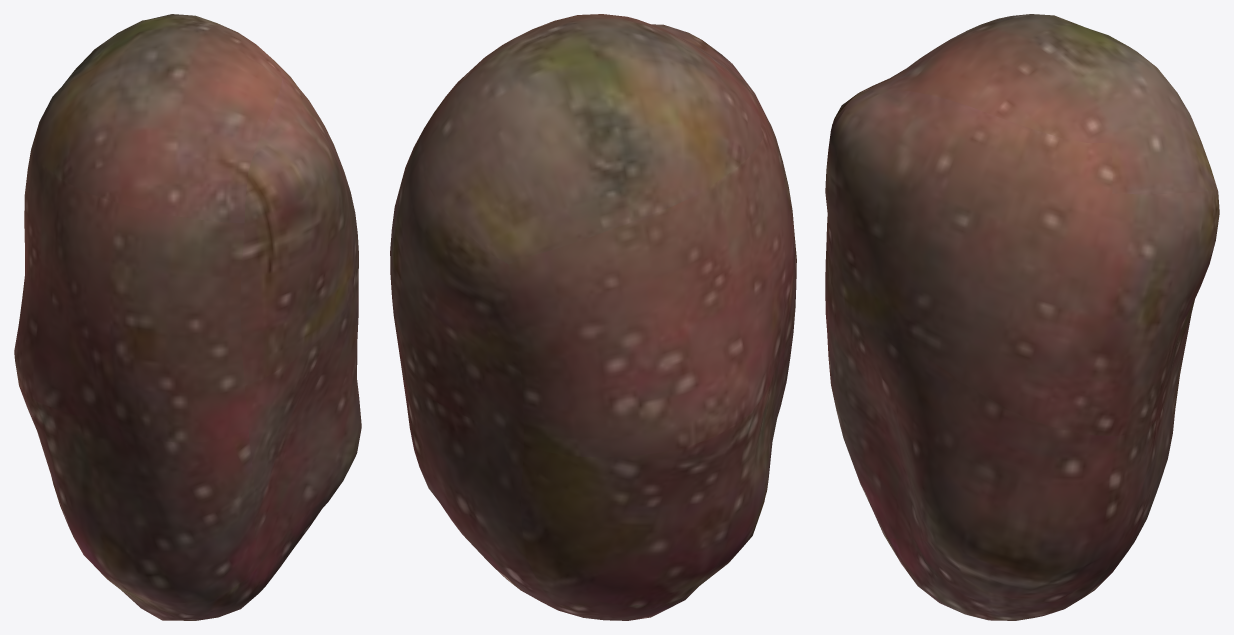
File: sweet_potato.glb
3 views of the same model, side by side, from view 1: azimuth 30°, elevation 25°; view 2: azimuth 150°, elevation 25°; view 3: azimuth 270°, elevation 25° (orthographic). The views are drawn at different scales.
Visible parts, largest first — view 1: sweet_potato; view 2: sweet_potato; view 3: sweet_potato.
Part boxes in pixels (bbox=[...]): sweet_potato: bbox=[14, 14, 361, 620]; sweet_potato: bbox=[390, 14, 796, 620]; sweet_potato: bbox=[825, 14, 1219, 620].
Bounding box in the file's own units: 0.0581 × 0.1005 × 0.061.
1 material, 1 textured.
